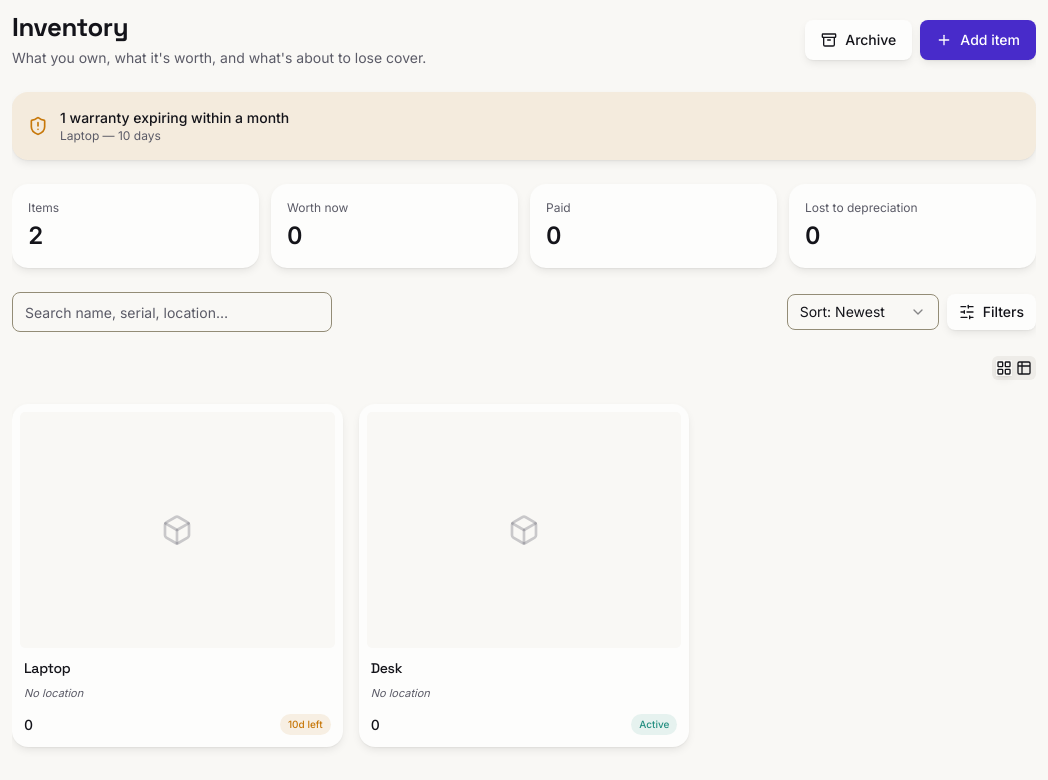
Test: InventoryPage › filters to the expiring items when the banner is used
The image size is (1048, 780).
Click the text "1 warranty expiring within a month" at (175, 118), box [60,109,289,126]
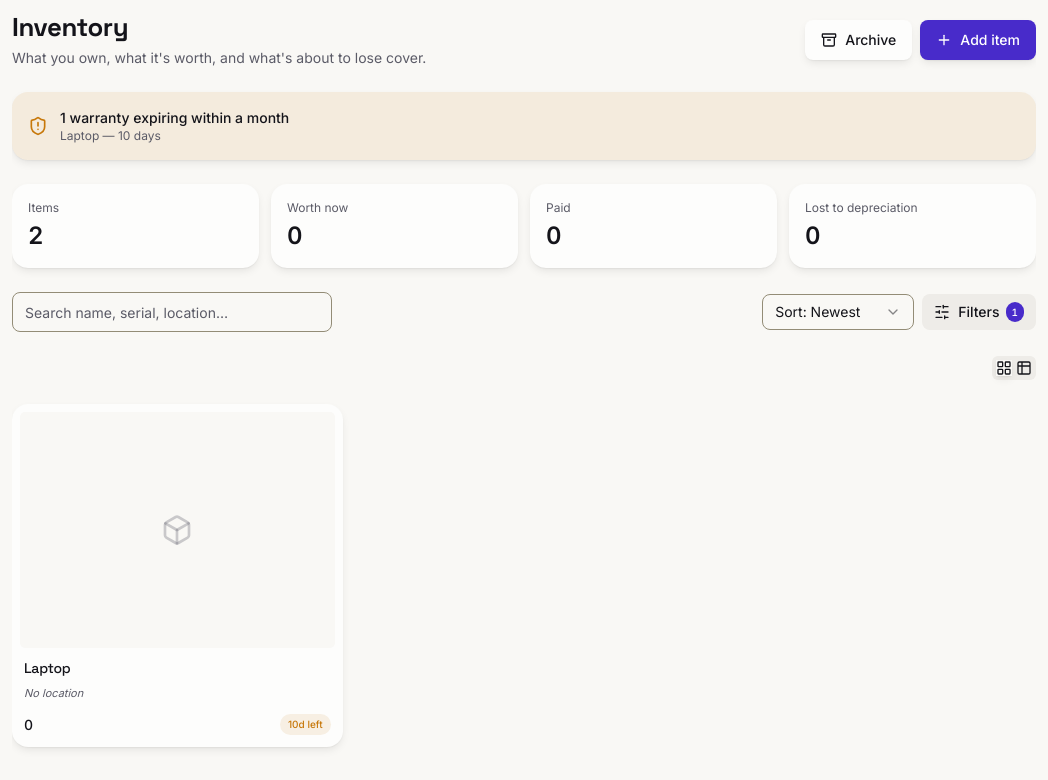
Check: the heading "Laptop" is shown, box [24,659,70,677]
Check: the heading "Desk" is gone
